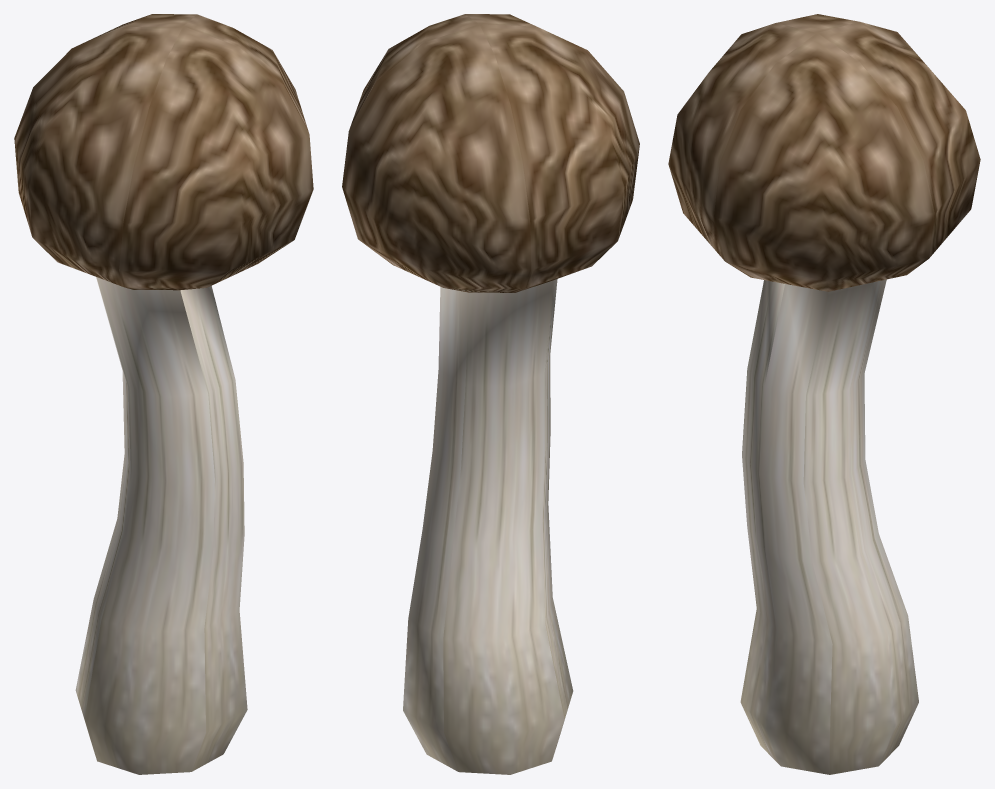
File: pir_m_prp_cav_mushroom_6.fbx
The picture shows the model from 3 angles, left to right: view 1: azimuth 30°, elevation 25°; view 2: azimuth 150°, elevation 25°; view 3: azimuth 270°, elevation 25°; orthographic projection.
Parts seen in each view (by area): view 1: lod_high; view 2: lod_high; view 3: lod_high.
Boxes of the visible parts, x1=… form: lod_high: x1=14, y1=14, x2=313, y2=774; lod_high: x1=342, y1=14, x2=639, y2=774; lod_high: x1=668, y1=14, x2=980, y2=774.
Size of the model in its own units: 150 by 384 by 150.
1 material, 1 textured.
